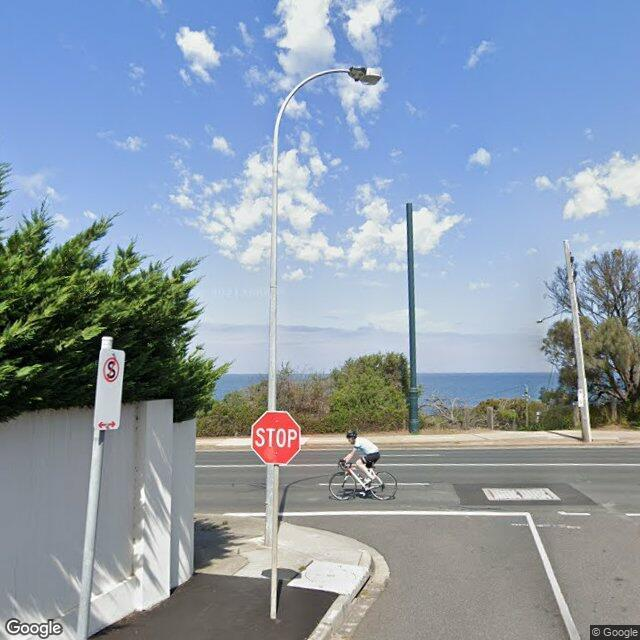steel-pole: (264, 136, 278, 547), (406, 202, 420, 434)
streetlight: (273, 67, 382, 137)
timber-pole: (563, 240, 592, 442)
